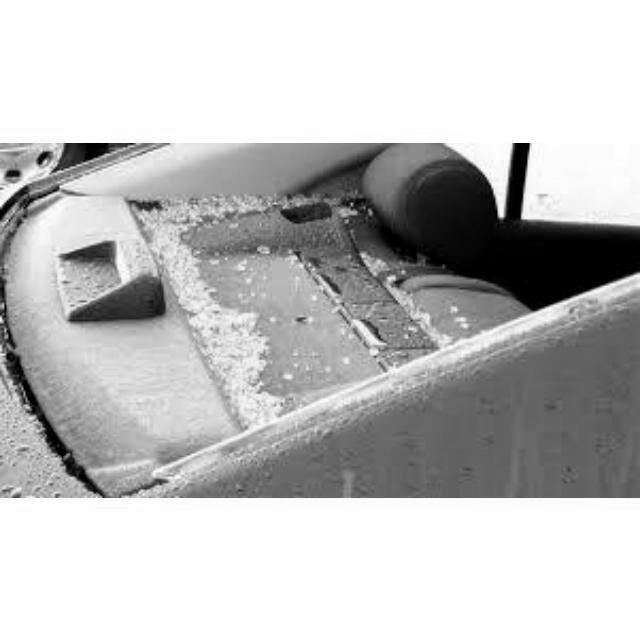Rear-windscreen-Damage: (7, 142, 553, 454)
